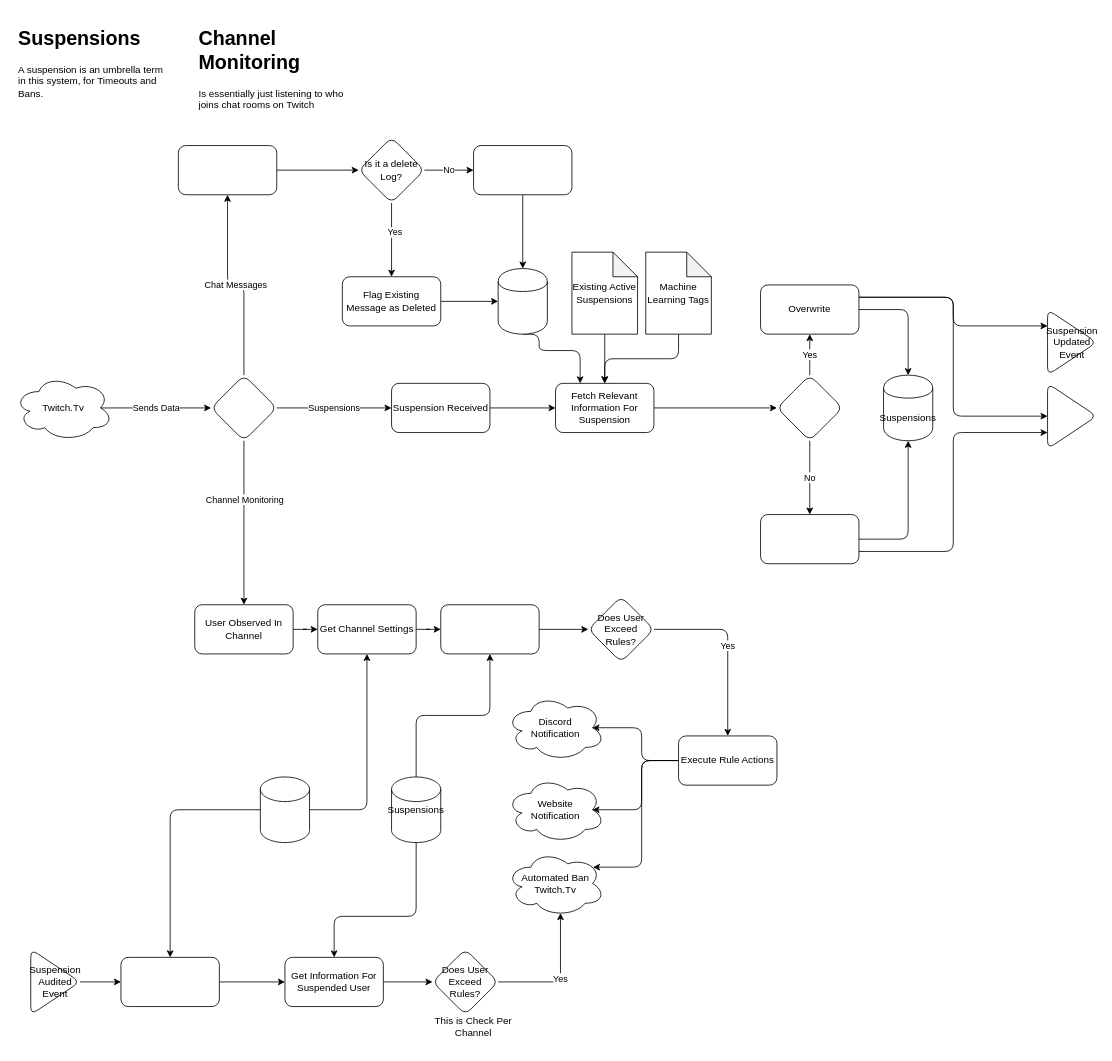
Some shapes in this 1112 by 1061 pixel diagram are drawn without their labels. The centre of each missing label's shape, as x and y in pixels:
"Channels" belongs at (285,809).
"Chatlogs" belongs at (522,301).
"Get All Channels Settings" belongs at (169,982).
"Get Information For User" belongs at (489,629).
"Message Received" belongs at (227,170).
"New Suspension Event" belongs at (1072,416).
"Overwrites Existing Active Suspension?" belongs at (809,407).
"Save Chat Message" belongs at (522,170).
"Save New" belongs at (809,539).
"Types Of Data" belongs at (243,407).
